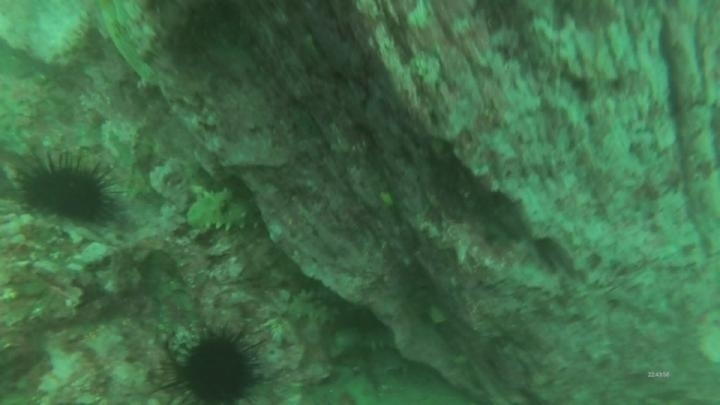echinus: (163, 324, 266, 404), (15, 150, 120, 227)
holothurian: (182, 184, 266, 239), (325, 322, 401, 361), (279, 286, 342, 332)
